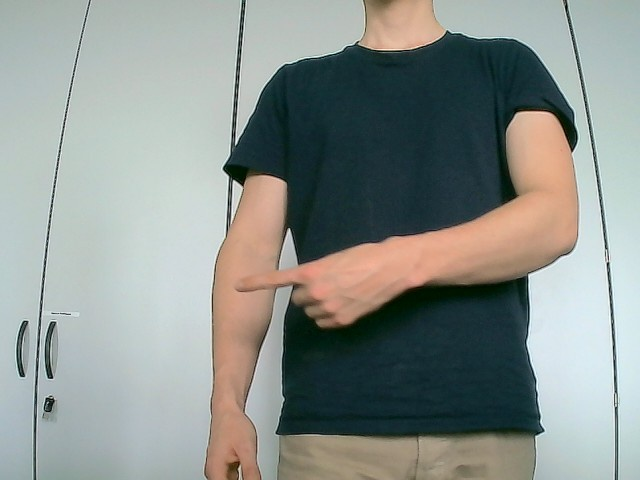right: (233, 235, 420, 331)
